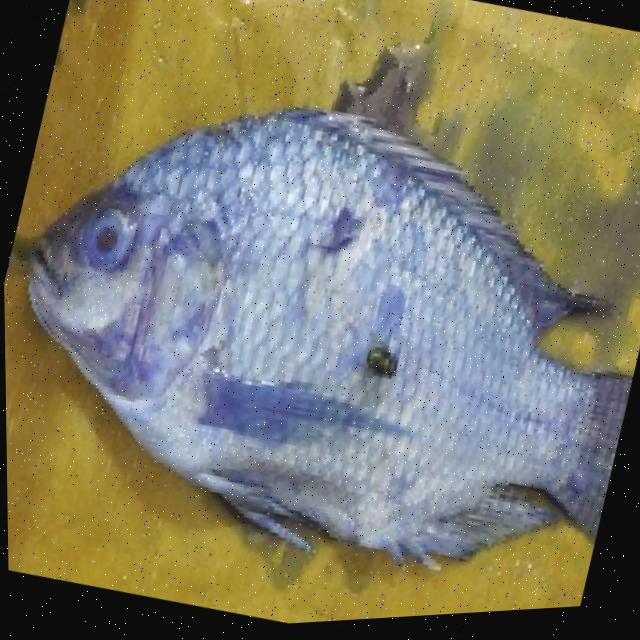Non-Fresh: (49, 86, 539, 564), (61, 181, 147, 286)
